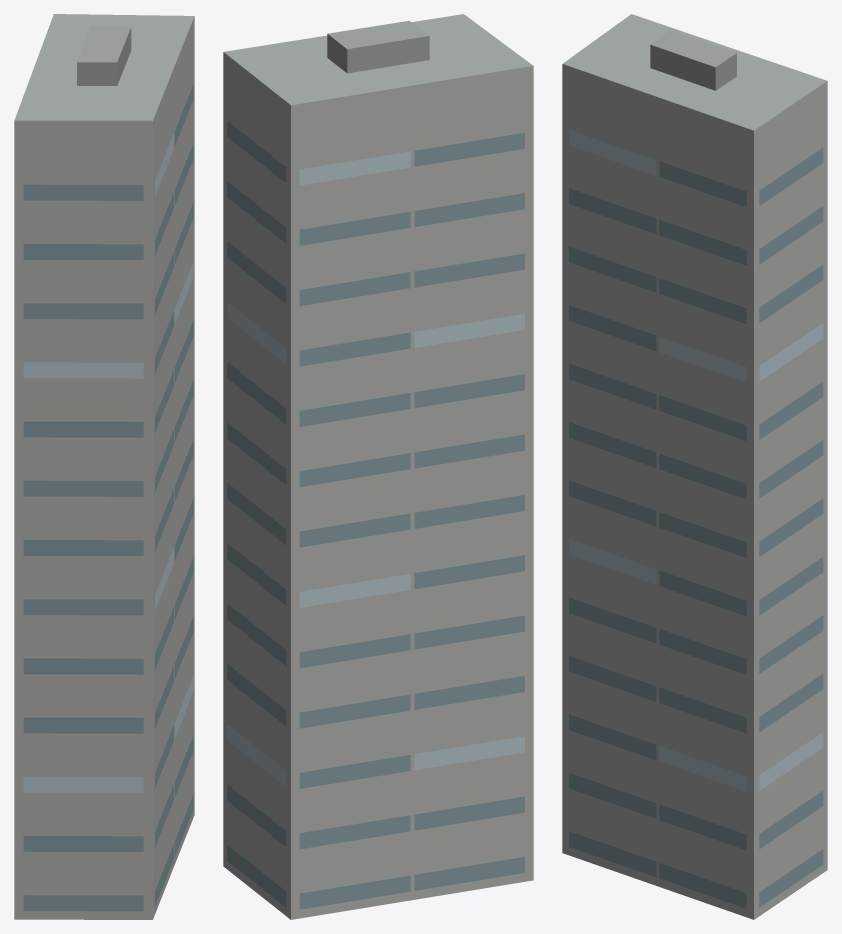
The model's file is fallback-jamsil-ricenz-216.glb.
The picture shows the model from 3 angles, left to right: view 1: azimuth 30°, elevation 25°; view 2: azimuth 150°, elevation 25°; view 3: azimuth 270°, elevation 25°; orthographic projection. The views are drawn at different scales.
Visible parts, largest first — view 1: fallback-jamsil-ricenz-216; view 2: fallback-jamsil-ricenz-216; view 3: fallback-jamsil-ricenz-216.
Part boxes in pixels (x1,y1,x2,y2): fallback-jamsil-ricenz-216: (14, 14, 194, 919); fallback-jamsil-ricenz-216: (223, 14, 533, 919); fallback-jamsil-ricenz-216: (562, 14, 827, 919).
Bounding box in the file's own units: 25.56 × 83 × 24.54.
